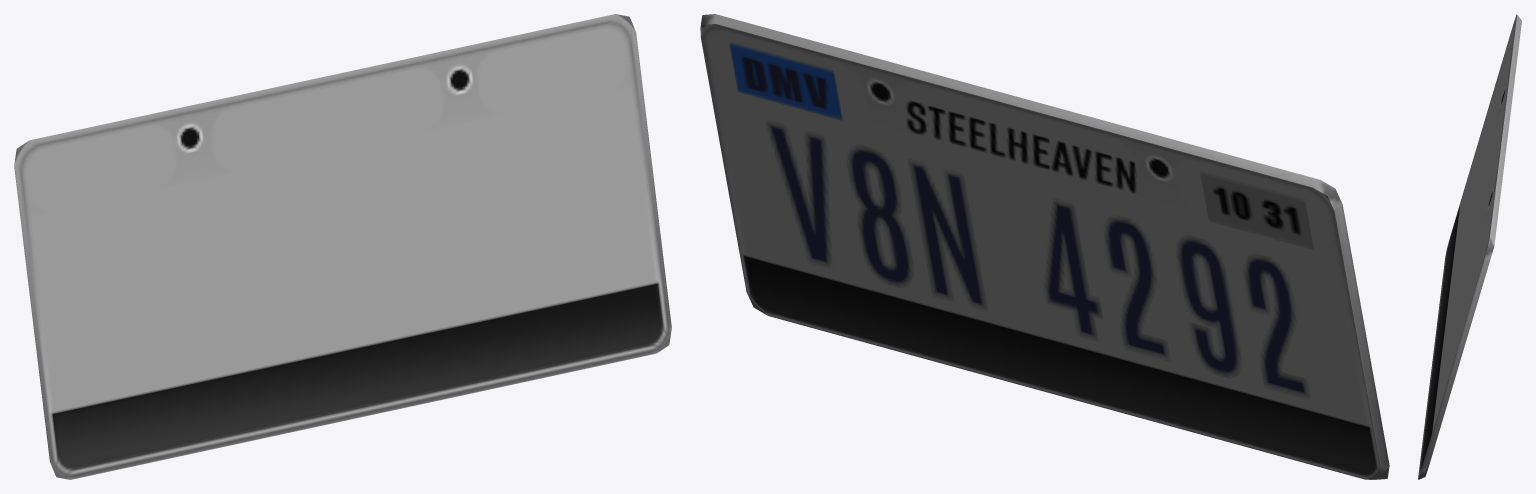
Rendered from shvan92inf_numberplate_front_numberplates_misk_u_0.003_lev3.glb.
The picture shows the model from 3 angles, left to right: view 1: azimuth 30°, elevation 25°; view 2: azimuth 150°, elevation 25°; view 3: azimuth 270°, elevation 25°; orthographic projection. The views are drawn at different scales.
Visible parts, largest first — view 1: shvan92inf_numberplate_front_numberplates_misk_u_0.003_lev3; view 2: shvan92inf_numberplate_front_numberplates_misk_u_0.003_lev3; view 3: shvan92inf_numberplate_front_numberplates_misk_u_0.003_lev3.
Part boxes in pixels (left/top/right/bottom): shvan92inf_numberplate_front_numberplates_misk_u_0.003_lev3: left=14, top=14, right=671, bottom=479; shvan92inf_numberplate_front_numberplates_misk_u_0.003_lev3: left=700, top=14, right=1389, bottom=479; shvan92inf_numberplate_front_numberplates_misk_u_0.003_lev3: left=1418, top=14, right=1521, bottom=479.
Size of the model in its own units: 0.3013 by 0.1449 by 0.056.
1 material, 1 textured.
